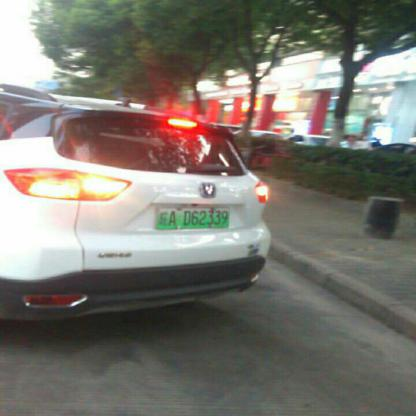lp: (158, 206, 229, 228)
